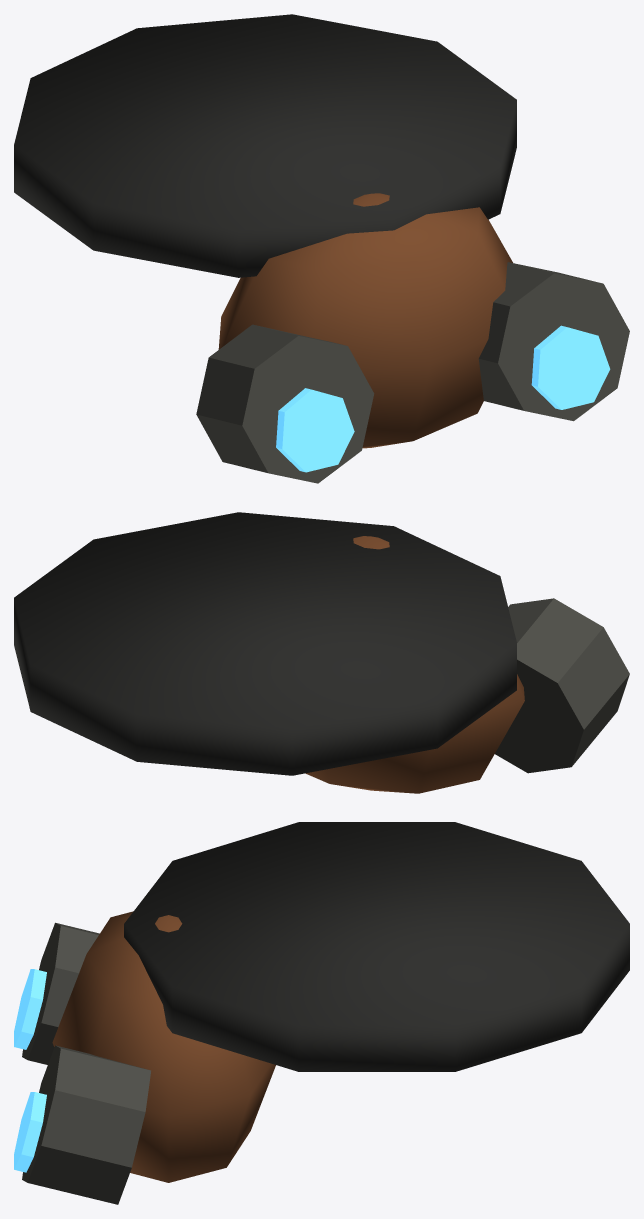
File: npc_respirator_rust.glb
3 renders of one model, top to bottom at view 1: azimuth 30°, elevation 25°; view 2: azimuth 150°, elevation 25°; view 3: azimuth 270°, elevation 25°, orthographic.
Parts seen in each view (by area): view 1: part.npc_respirator_rust; view 2: part.npc_respirator_rust; view 3: part.npc_respirator_rust.
Part boxes in pixels (bbox=[...]): part.npc_respirator_rust: bbox=[14, 14, 629, 483]; part.npc_respirator_rust: bbox=[14, 512, 629, 793]; part.npc_respirator_rust: bbox=[14, 822, 629, 1204].
Bounding box in the file's own units: 0.2054 × 0.1178 × 0.263.
